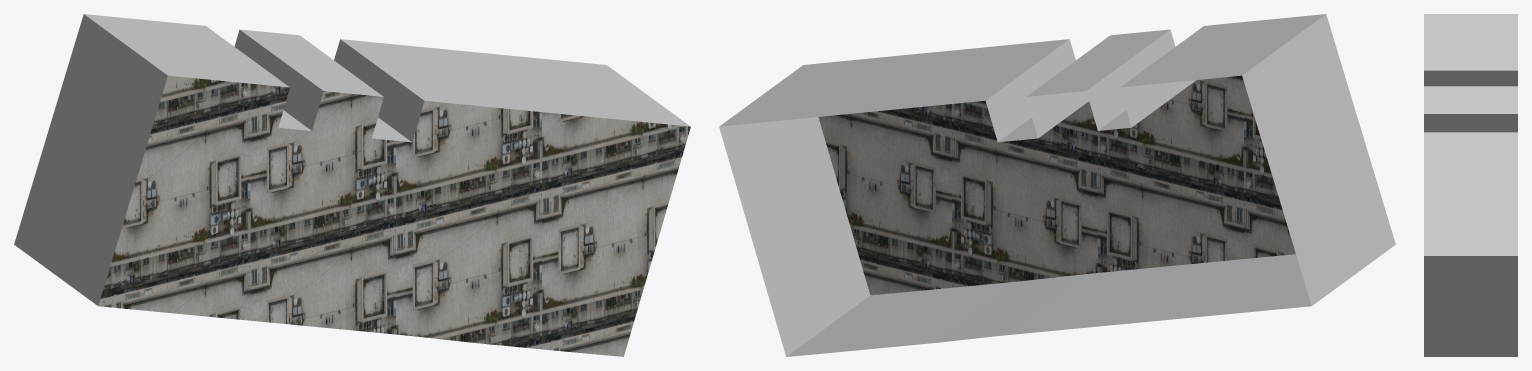
File: geospecific_2253.obj
3 renders of one model, left to right at view 1: azimuth 30°, elevation 25°; view 2: azimuth 150°, elevation 25°; view 3: azimuth 270°, elevation 25°, orthographic. The views are drawn at different scales.
Visible parts, largest first — view 1: Building; view 2: Building; view 3: Building.
Part boxes in pixels (x1,y1,x2,y2): Building: (14, 14, 690, 356); Building: (719, 14, 1395, 356); Building: (1424, 14, 1517, 356).
Bounding box in the file's own units: 85.35 × 54.02 × 21.
